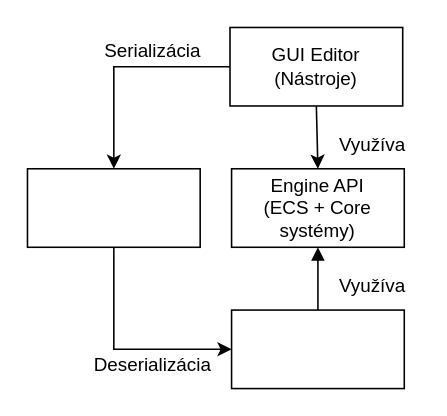
Some shapes in this 447 by 416 pixel diagram are drawn without their labels. The shapes that lost their labels are listed below. From the top down, each one's box as (x1, y1, x2, y2) in pixels, then its label:
(26, 167, 200, 247): Herné dáta
(230, 309, 404, 389): Herný runtime (Spustenie exportu)
